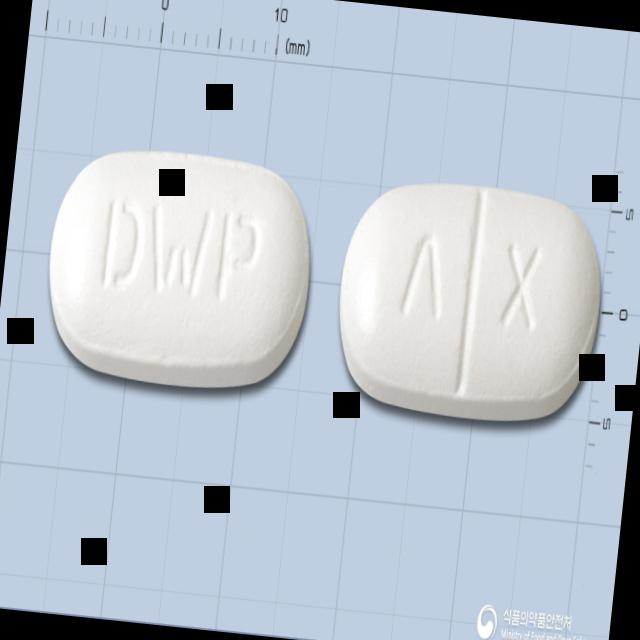Aclova 400mg: (328, 170, 612, 431), (39, 138, 322, 399)
